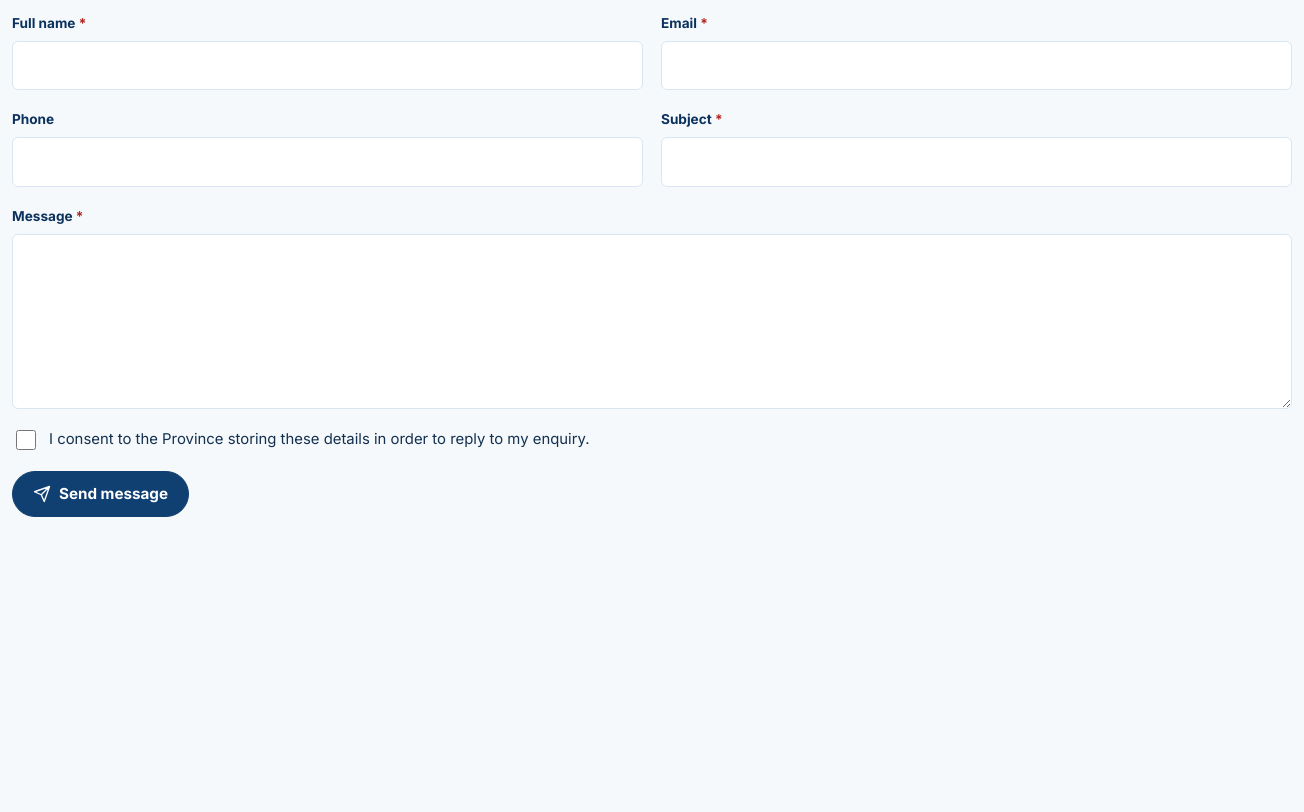
it: ContactForm › rejects an invalid email address
In the field labelled "Email *": point(976, 66) [661,41,1292,90], type "nope"
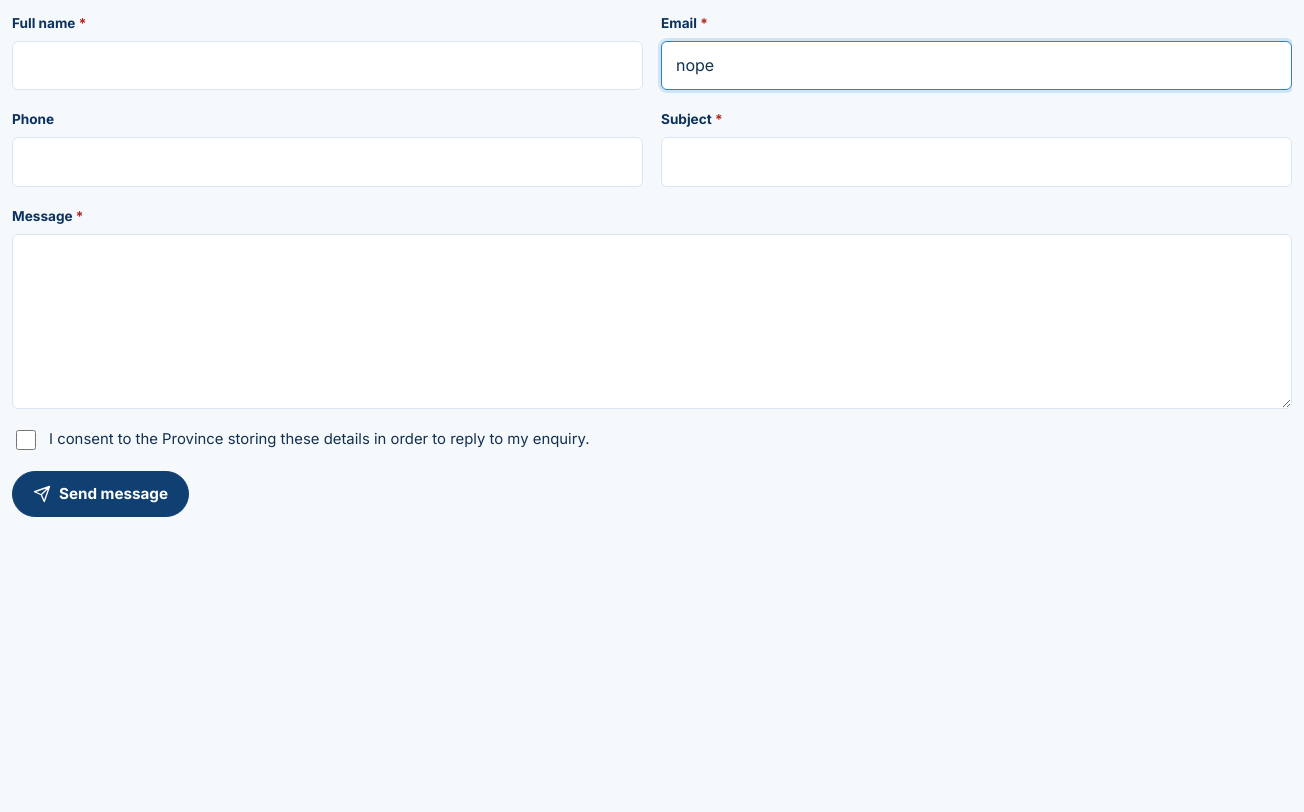
Click the button "Send message": point(100, 494) [12,471,189,517]
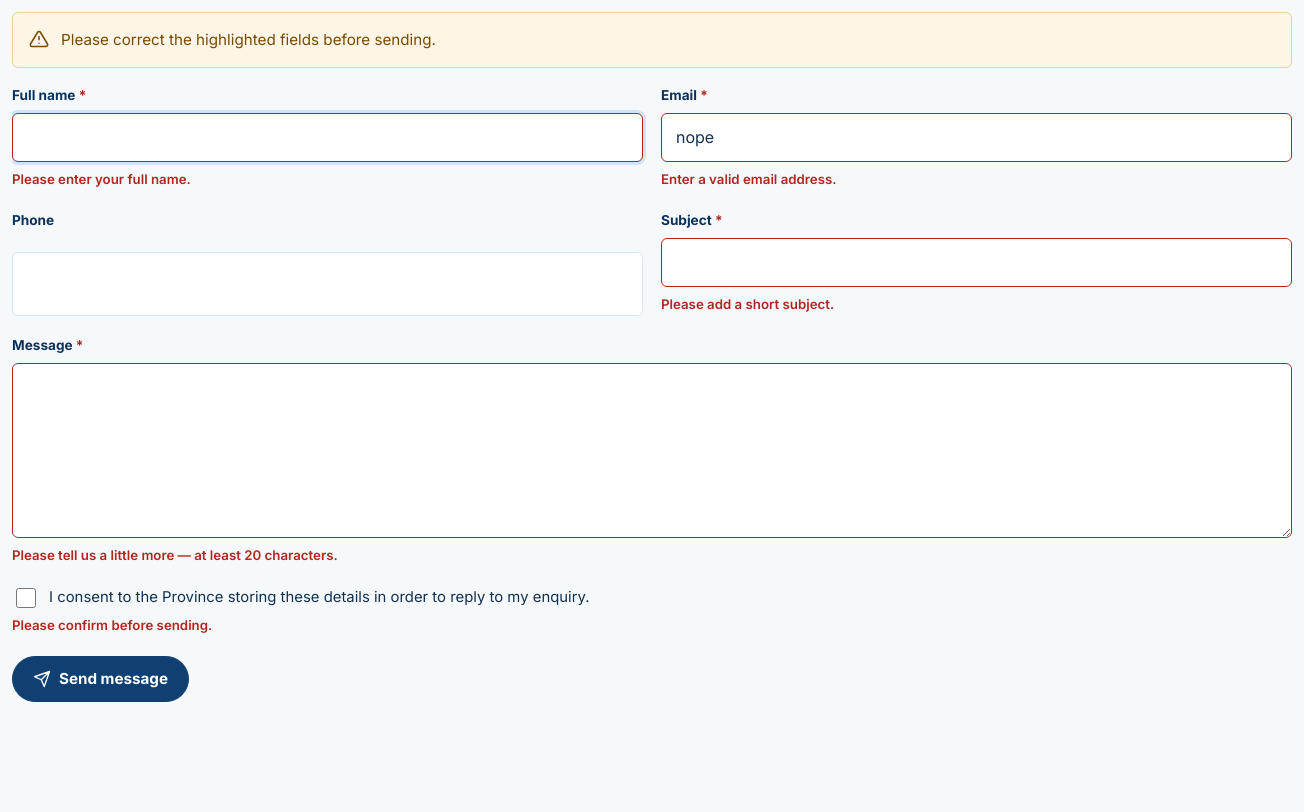
Expected: the text "Enter a valid email address." is shown, [661,171,836,187]
